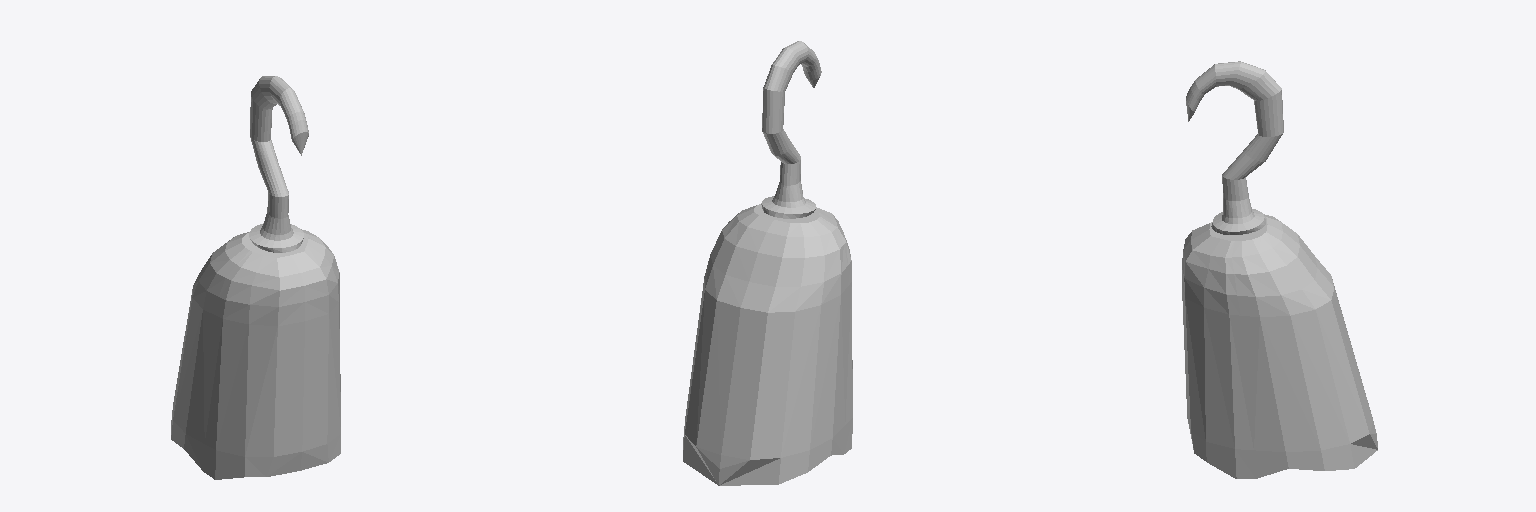
File: Pirate hook.obj
The picture shows the model from 3 angles: view 1: azimuth 30°, elevation 25°; view 2: azimuth 150°, elevation 25°; view 3: azimuth 270°, elevation 25°; orthographic projection.
Visible parts, largest first — view 1: pCylinder1, pCylinder4; view 2: pCylinder1, pCylinder4; view 3: pCylinder1, pCylinder4.
Part boxes in pixels (bbox=[...]): pCylinder1: bbox=[171, 229, 340, 479]; pCylinder4: bbox=[249, 76, 308, 252]; pCylinder1: bbox=[683, 204, 852, 485]; pCylinder4: bbox=[761, 41, 821, 218]; pCylinder1: bbox=[1182, 214, 1377, 478]; pCylinder4: bbox=[1186, 61, 1283, 234].
Size of the model in its own units: 1.71 by 4.7 by 2.16.